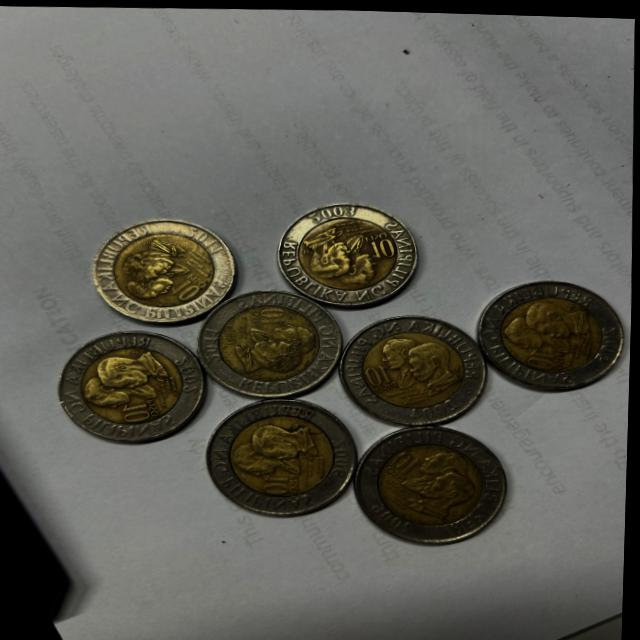10_Old_Front: (171, 276, 204, 302), (527, 341, 560, 367), (388, 449, 427, 471), (263, 471, 295, 497), (368, 234, 396, 260), (256, 304, 289, 325), (364, 361, 394, 384), (122, 399, 153, 421)
